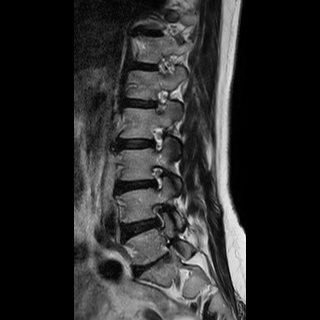RFS0: (146, 158, 168, 194), (150, 83, 170, 119), (147, 120, 167, 155)
